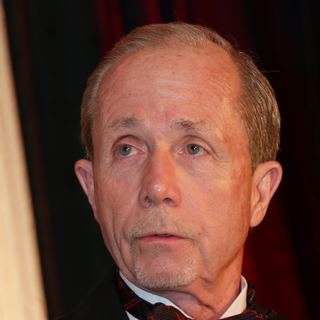eye: (174, 138, 217, 163), (108, 139, 148, 163)
